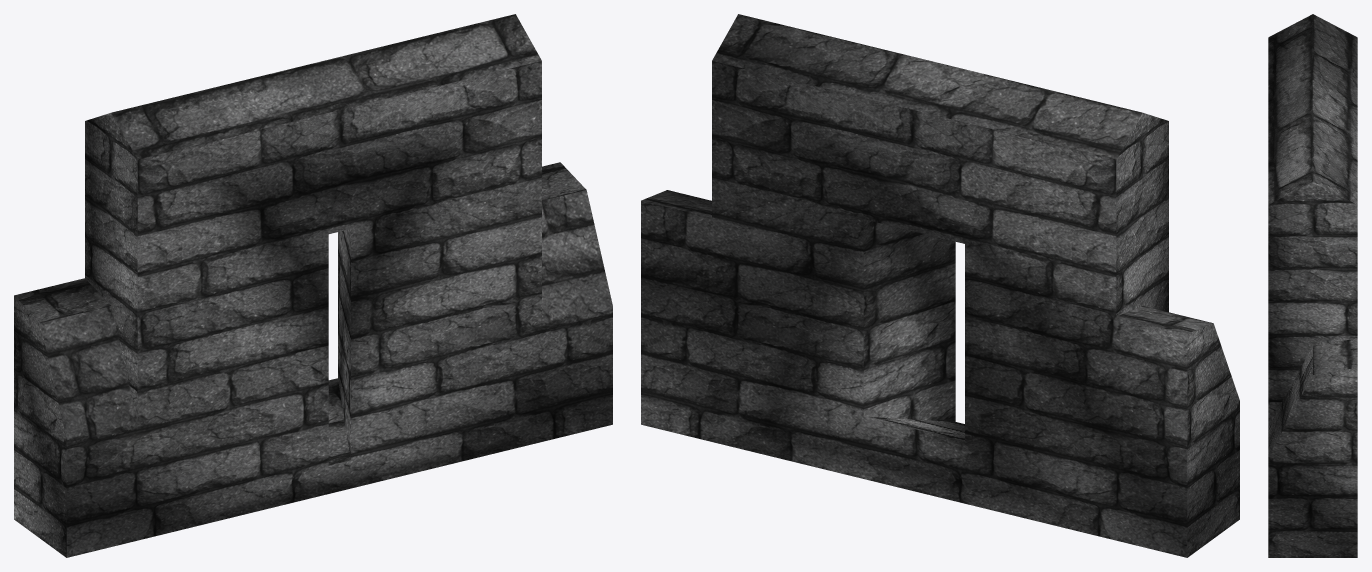
File: stone arrowslit.glb
3 views of the same model, side by side, from view 1: azimuth 30°, elevation 25°; view 2: azimuth 150°, elevation 25°; view 3: azimuth 270°, elevation 25° (orthographic). The views are drawn at different scales.
Visible parts, largest first — view 1: Crenolation, Arrow Loop; view 2: Crenolation, Arrow Loop; view 3: Crenolation, Arrow Loop.
Boxes of the visible parts, box(x1,y1,x2,y2) form: Crenolation, Arrow Loop: box(14, 14, 612, 557); Crenolation, Arrow Loop: box(641, 14, 1239, 557); Crenolation, Arrow Loop: box(1268, 14, 1357, 557).
Size of the model in its own units: 2.74 by 1.96 by 0.4572.
1 material, 1 textured.
